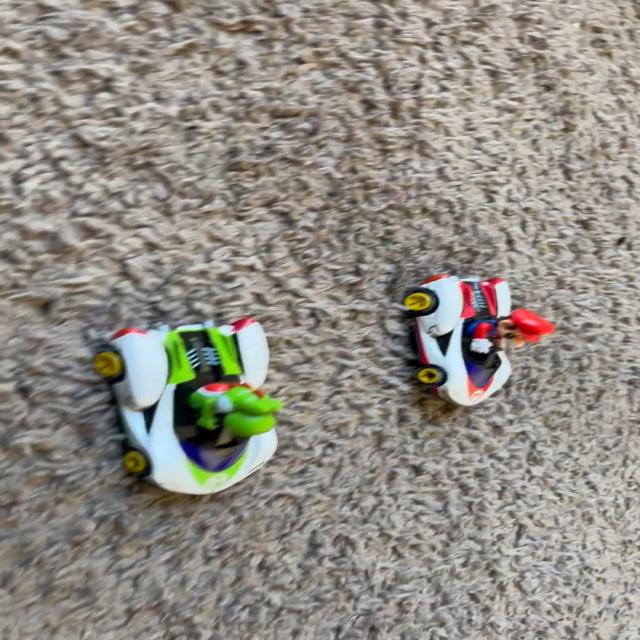mario: (381, 259, 561, 425)
yoshi: (94, 306, 301, 516)
